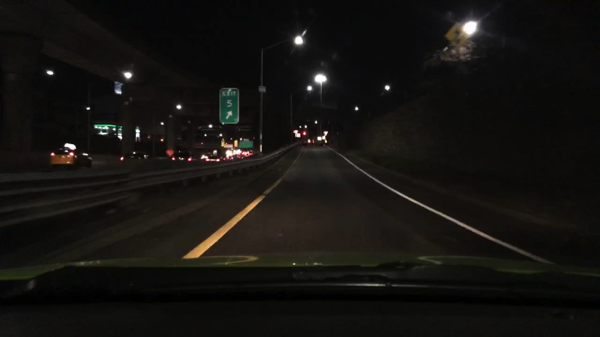car: (50, 143, 94, 170), (121, 150, 148, 162), (173, 154, 193, 162), (206, 154, 220, 163), (306, 138, 315, 147), (240, 151, 248, 157), (223, 156, 230, 162)
traffic light: (303, 131, 307, 137)
traffic sign: (220, 88, 239, 124), (444, 23, 470, 47), (239, 141, 253, 150), (167, 148, 174, 156), (294, 129, 301, 137), (324, 129, 328, 137), (316, 135, 321, 141)
